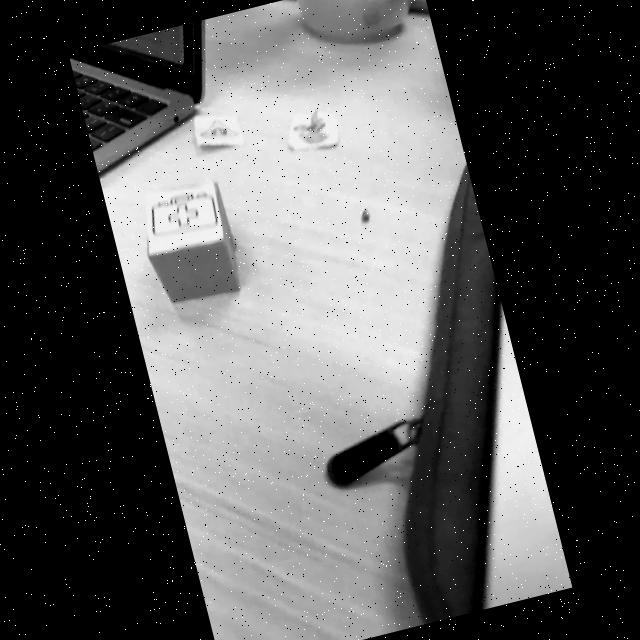Medkit: (151, 191, 218, 236)
